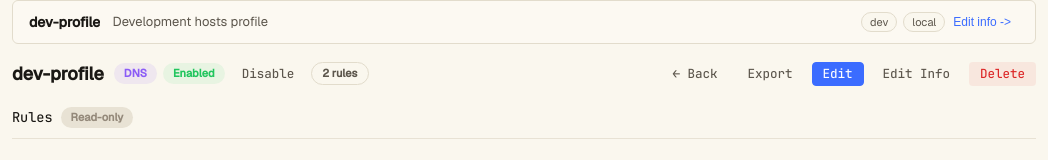
Scenario: ProfileView › switches to Editing mode when Edit is clicked (DNS)
This screenshot has width=1048, height=160.
Click the button "Edit" at (838, 74), box [812,62,864,86]
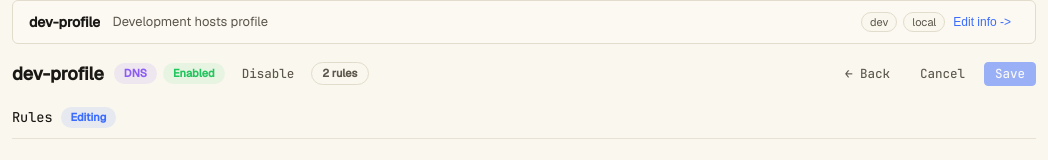
Check: the text "Editing" is shown, box [61,107,116,128]
Check: the text "Read-only" is gone
